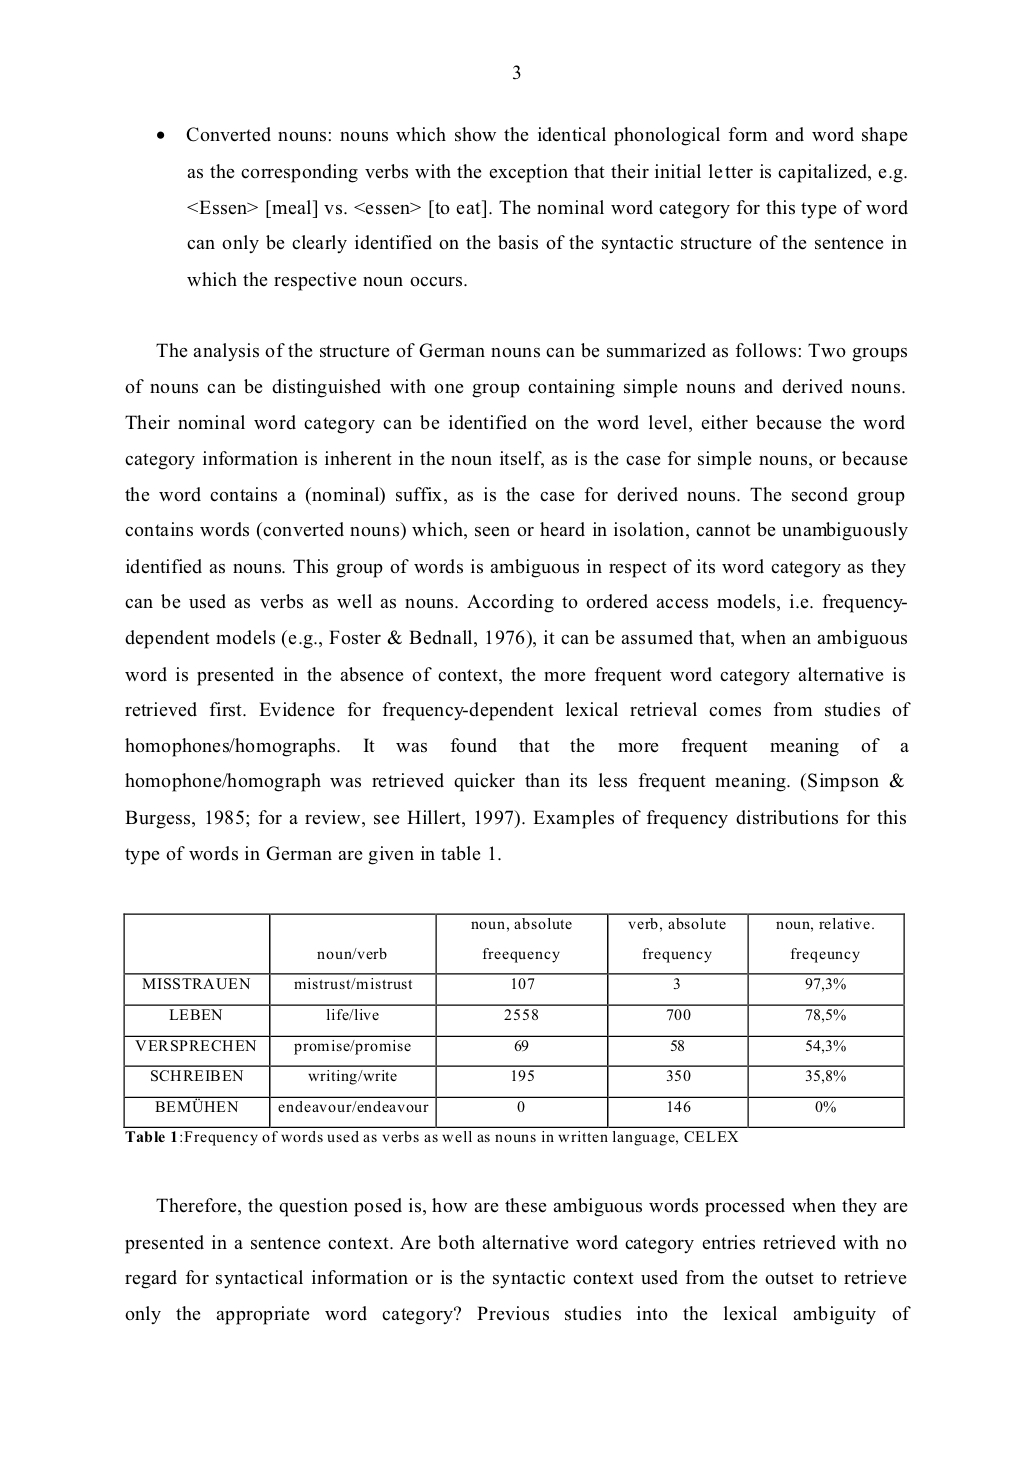Table: (123, 913, 904, 1131)
